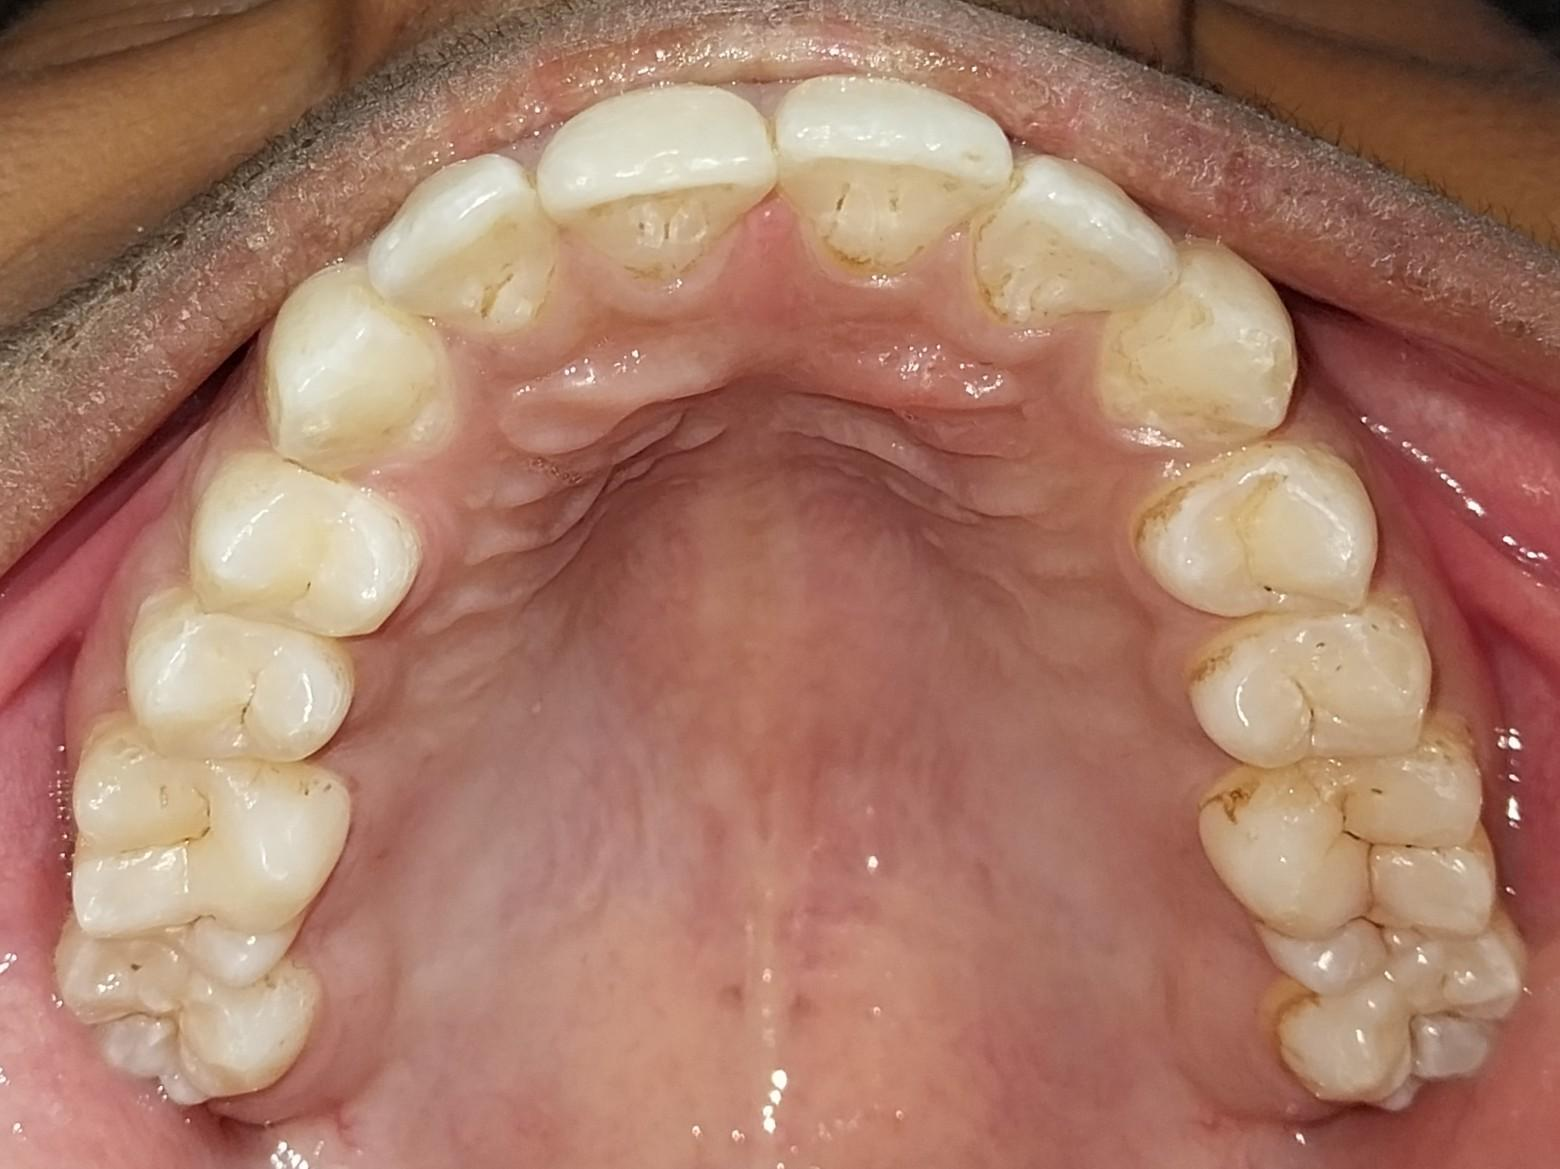D: (1202, 724, 1502, 978), (1267, 938, 1527, 1111)
